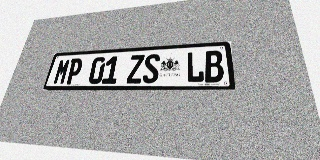0: (88, 57, 106, 84)
1: (102, 56, 120, 84)
B: (204, 50, 224, 82)
L: (186, 51, 204, 83)
M: (52, 59, 71, 84)
P: (65, 58, 84, 84)
S: (142, 54, 160, 83)
Z: (126, 54, 145, 83)
